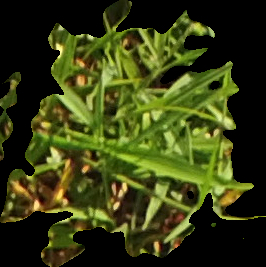grass: (1, 1, 264, 265)
